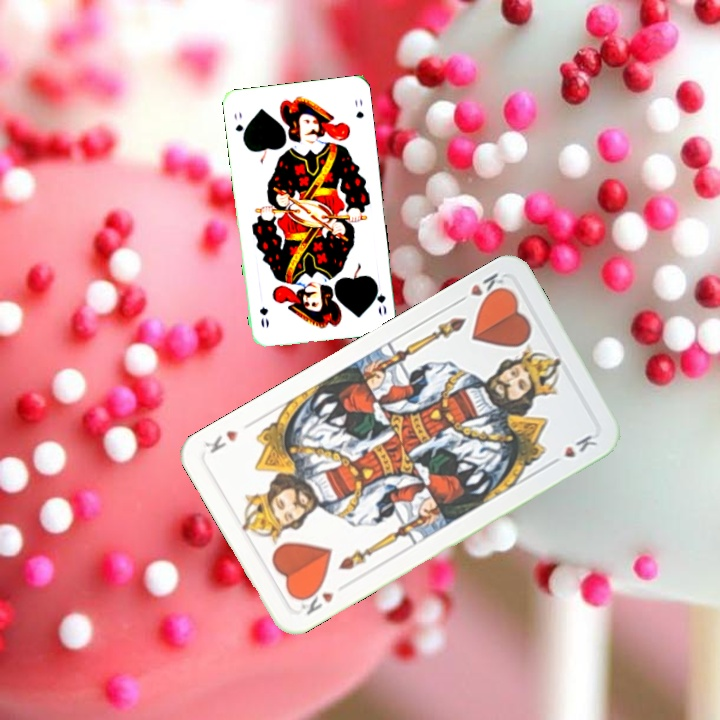GO: (370, 278, 389, 318), (230, 107, 248, 144)
HK: (452, 268, 511, 307), (291, 582, 337, 618)
